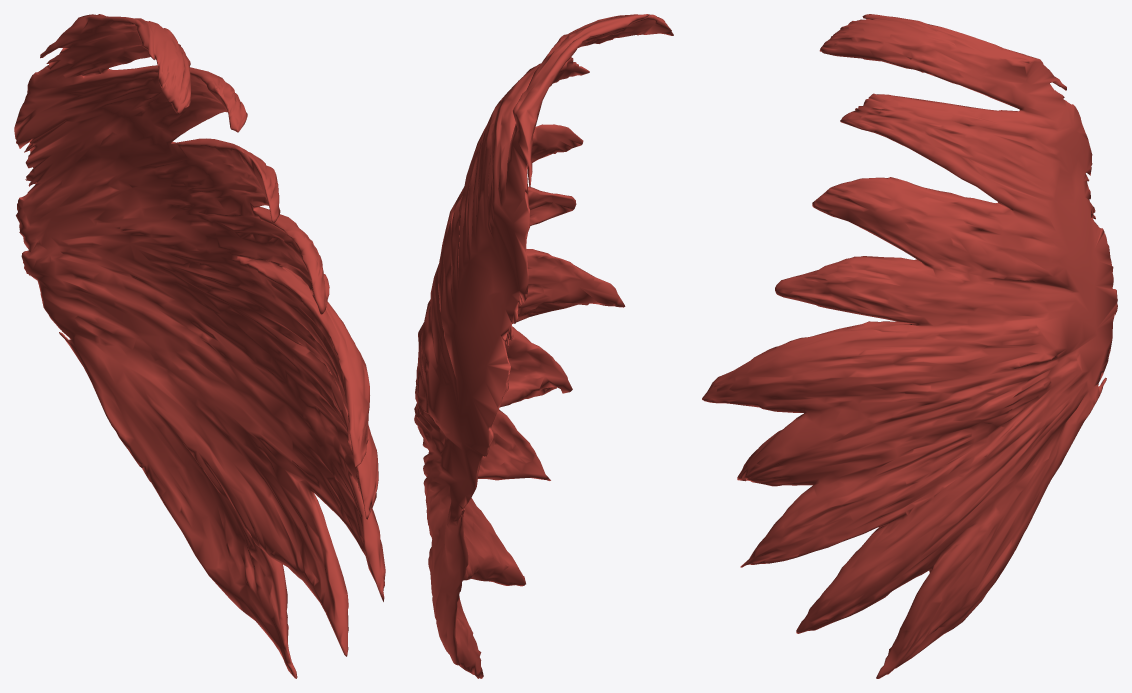
The model's file is musculos-serratus-anterior-muscle-l.glb.
The picture shows the model from 3 angles, left to right: view 1: azimuth 30°, elevation 25°; view 2: azimuth 150°, elevation 25°; view 3: azimuth 270°, elevation 25°; orthographic projection. The views are drawn at different scales.
Visible parts, largest first — view 1: Serratus anterior muscle.l; view 2: Serratus anterior muscle.l; view 3: Serratus anterior muscle.l.
Boxes of the visible parts, <box> form: Serratus anterior muscle.l: <box>14,14,385,678</box>; Serratus anterior muscle.l: <box>414,14,673,678</box>; Serratus anterior muscle.l: <box>702,14,1117,678</box>.
Size of the model in its own units: 0.0863 by 0.2747 by 0.1721.
